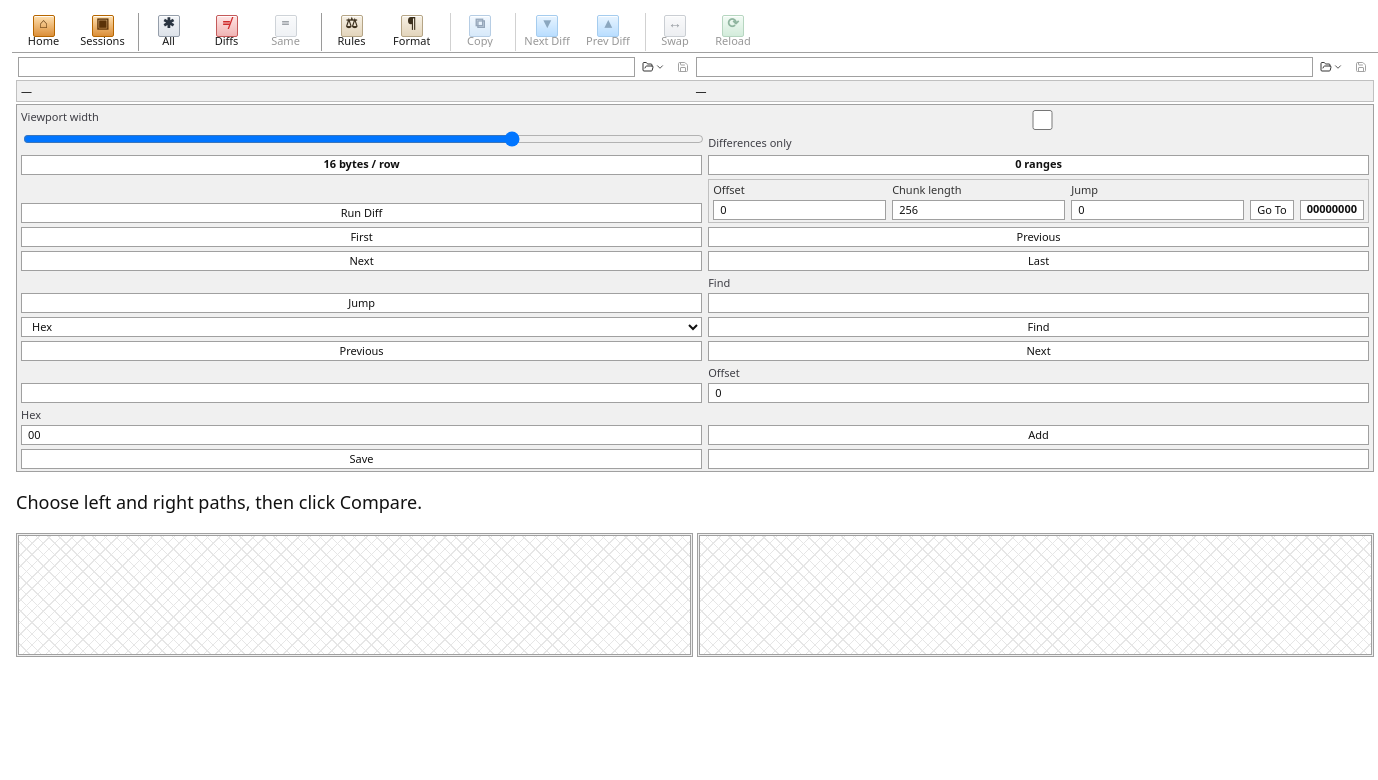
Scenario: HexCompareView › swaps paths and reloads from the session toolbar
The width and height of the screenshot is (1378, 780).
Type "C:/bin/left.bin" into the field with test id "hex-left-path".
click(326, 66); type("C:/bin/left.bin")  # box top-left (18, 56), bottom-right (635, 76)
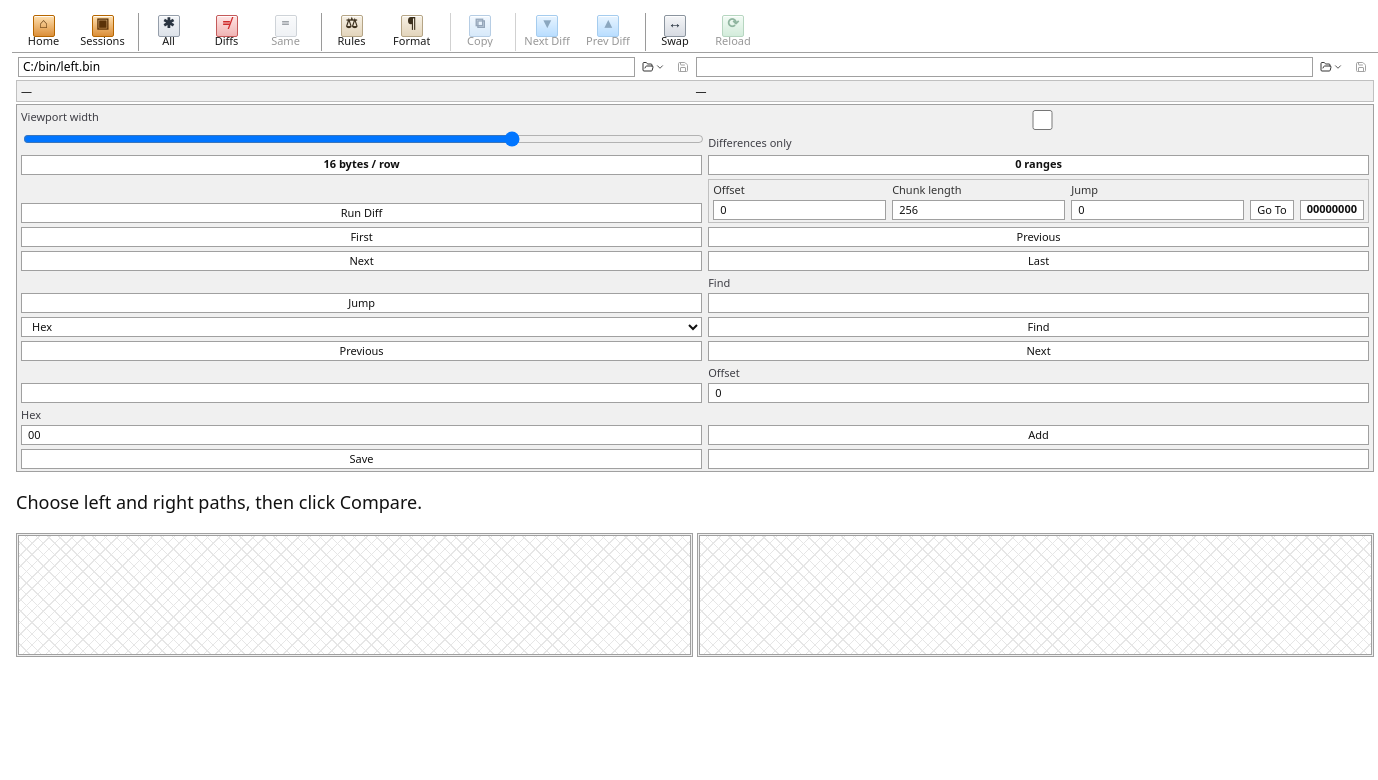
Type "C:/bin/right.bin" into the field with test id "hex-right-path".
click(1004, 66); type("C:/bin/right.bin")  # box top-left (696, 56), bottom-right (1313, 76)
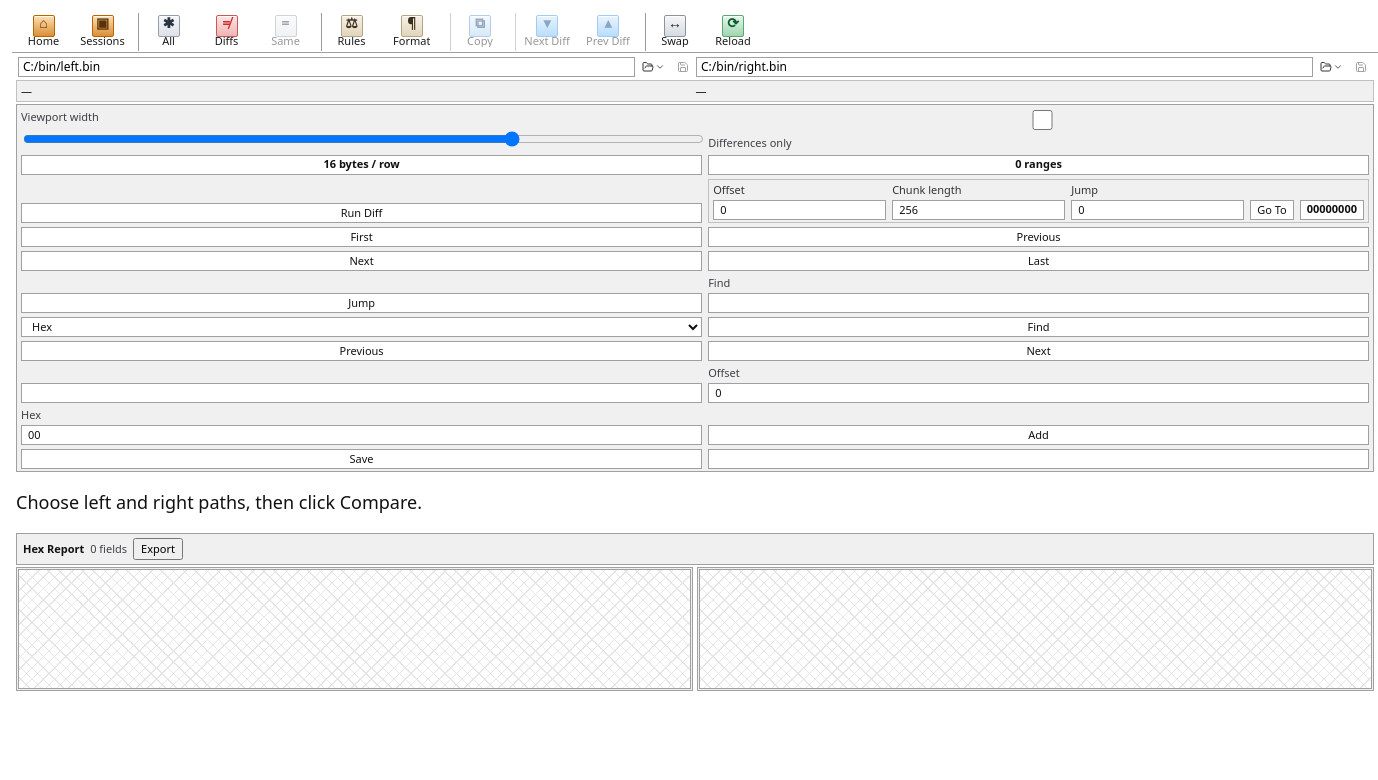
Click the button with test id "hex-session-toolbar-swap".
click(674, 32)  # box top-left (644, 13), bottom-right (704, 50)
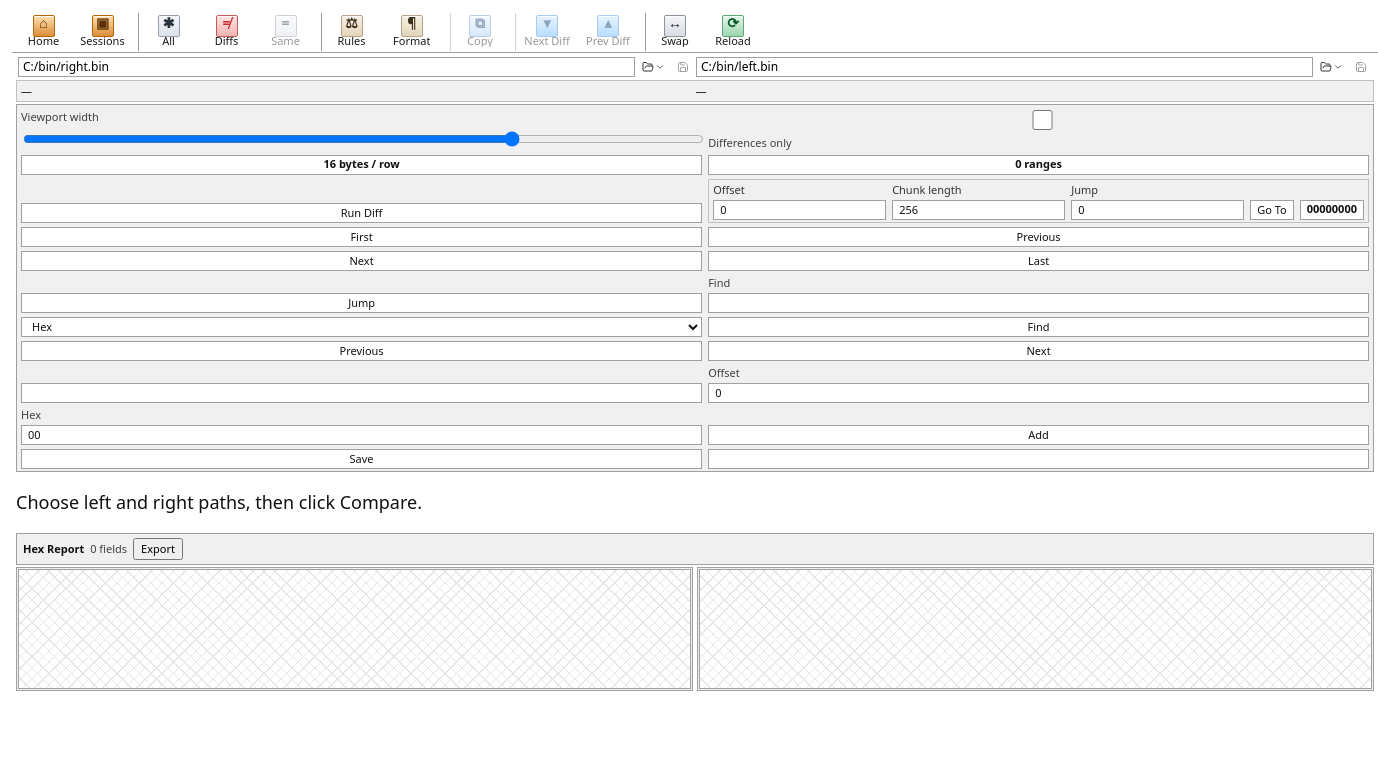
Expected: the field with test id "hex-left-path" holds "C:/bin/right.bin", top-left (18, 56), bottom-right (635, 76)
Expected: the field with test id "hex-right-path" holds "C:/bin/left.bin", top-left (696, 56), bottom-right (1313, 76)
